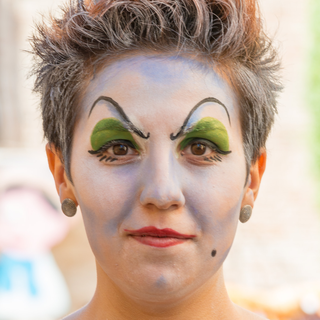eye: (85, 130, 147, 167), (172, 134, 235, 167)
